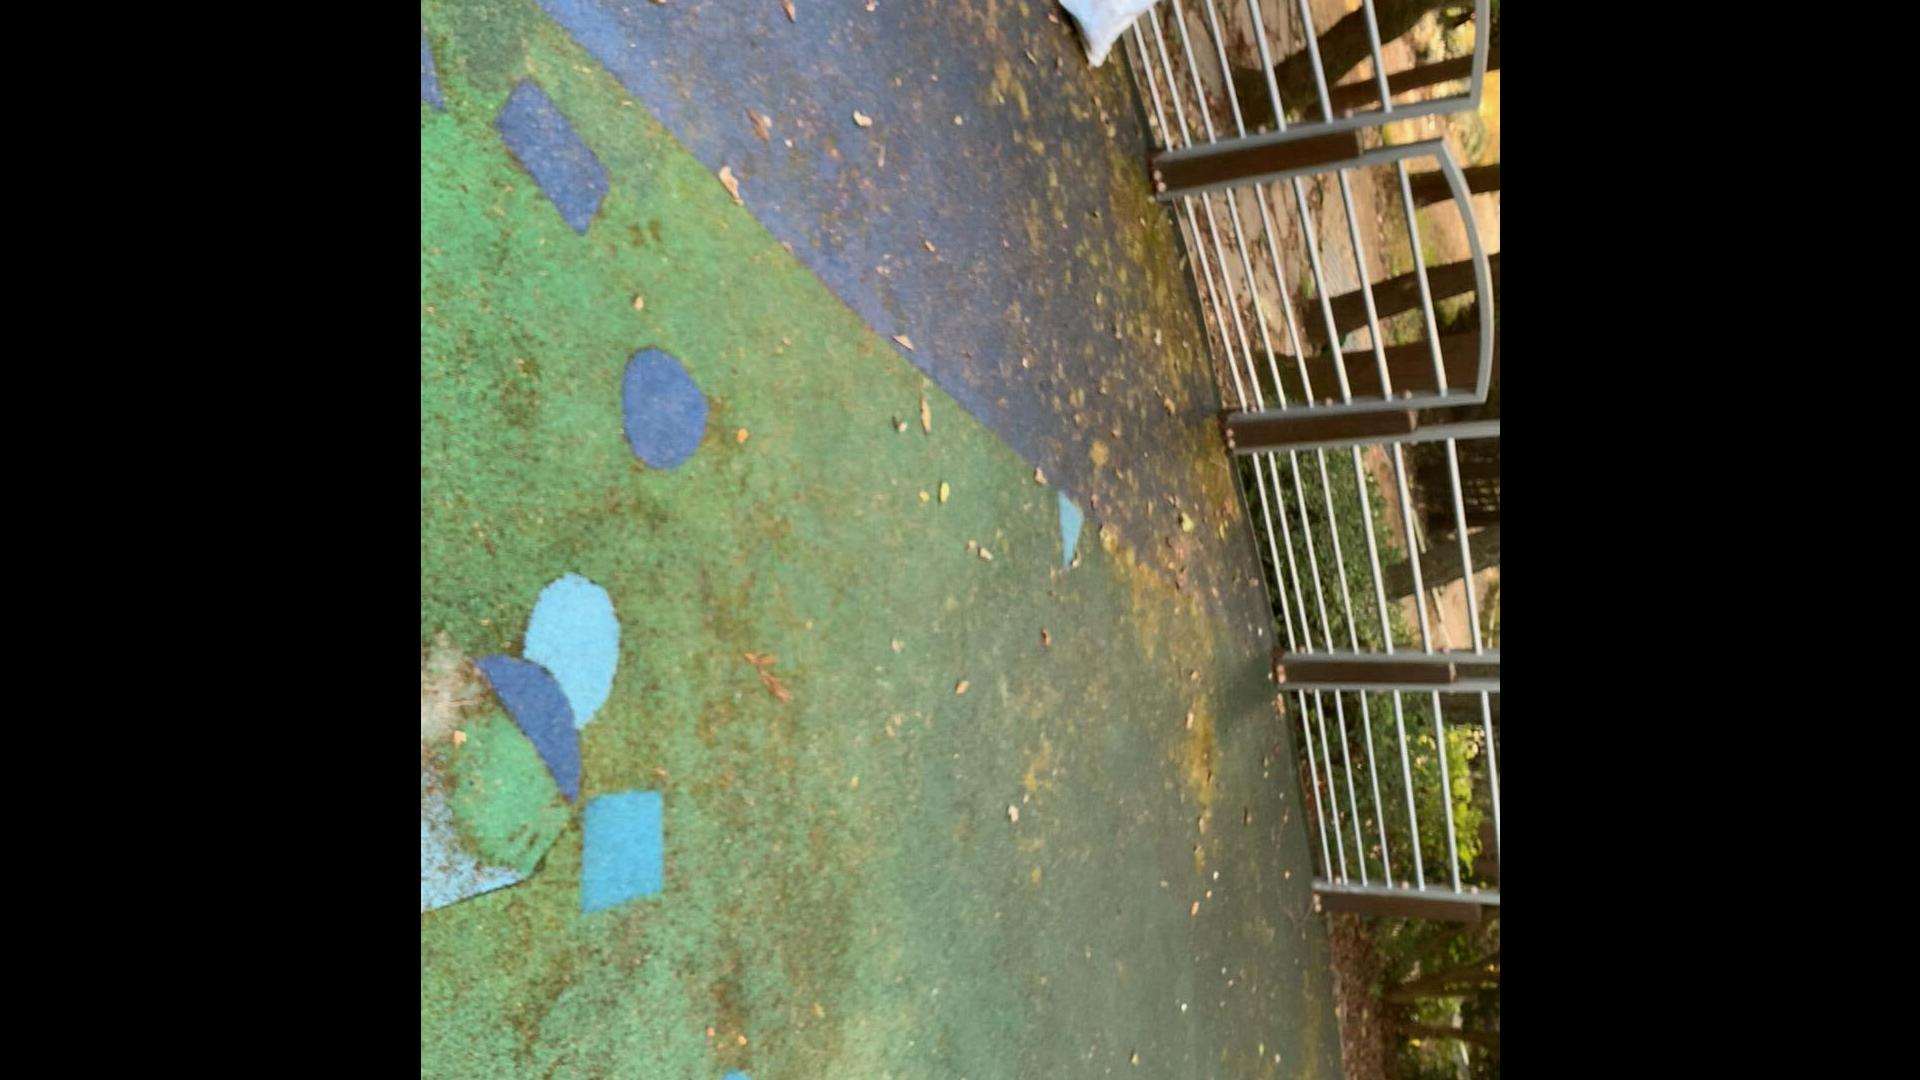white_bag: (1042, 0, 1217, 76)
